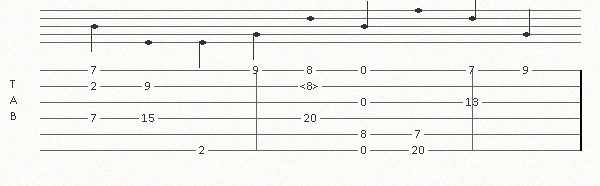0: (360, 64, 371, 76), (360, 96, 371, 108), (360, 144, 371, 156)
13: (465, 96, 483, 108)
15: (141, 112, 159, 124)
2: (90, 80, 101, 92), (198, 144, 209, 156)
20: (303, 112, 321, 124), (411, 144, 429, 156)
7: (90, 64, 101, 76), (90, 112, 101, 124), (414, 128, 425, 140), (468, 64, 479, 76)
8: (306, 64, 317, 76), (360, 128, 371, 140)
9: (144, 80, 155, 92), (252, 64, 263, 76), (522, 64, 533, 76)
harmonic: (300, 80, 323, 92)
